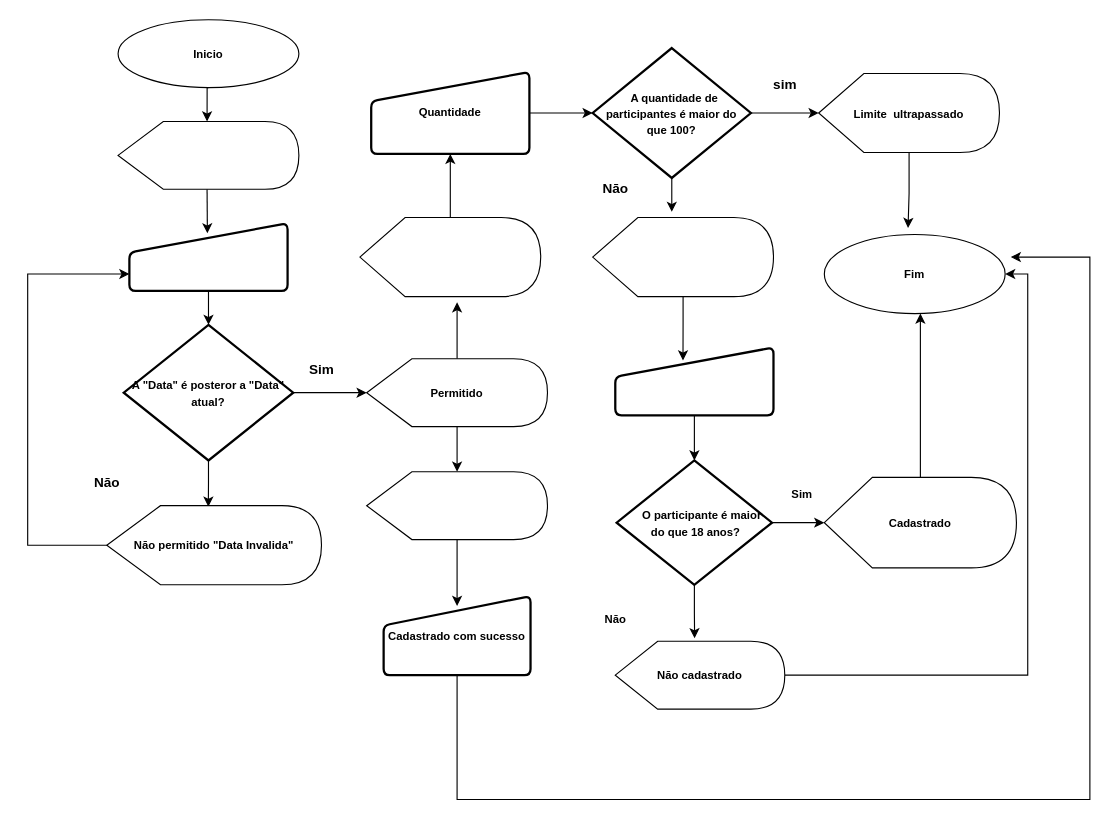
Some shapes in this 1119 by 828 pixel diagram are drawn without their labels. The shapes that lost their labels are listed below. From the top down, each one's box as (x1, y1, x2, y2) in pixels, then its label:
(117, 120, 299, 189): Data do evento
(128, 221, 288, 292): Data
(359, 216, 541, 297): Quantidade de Participantes
(592, 216, 773, 297): Idade dos participantes.
(614, 346, 774, 416): Idade
(366, 471, 547, 540): Cadastrar palestrantes
